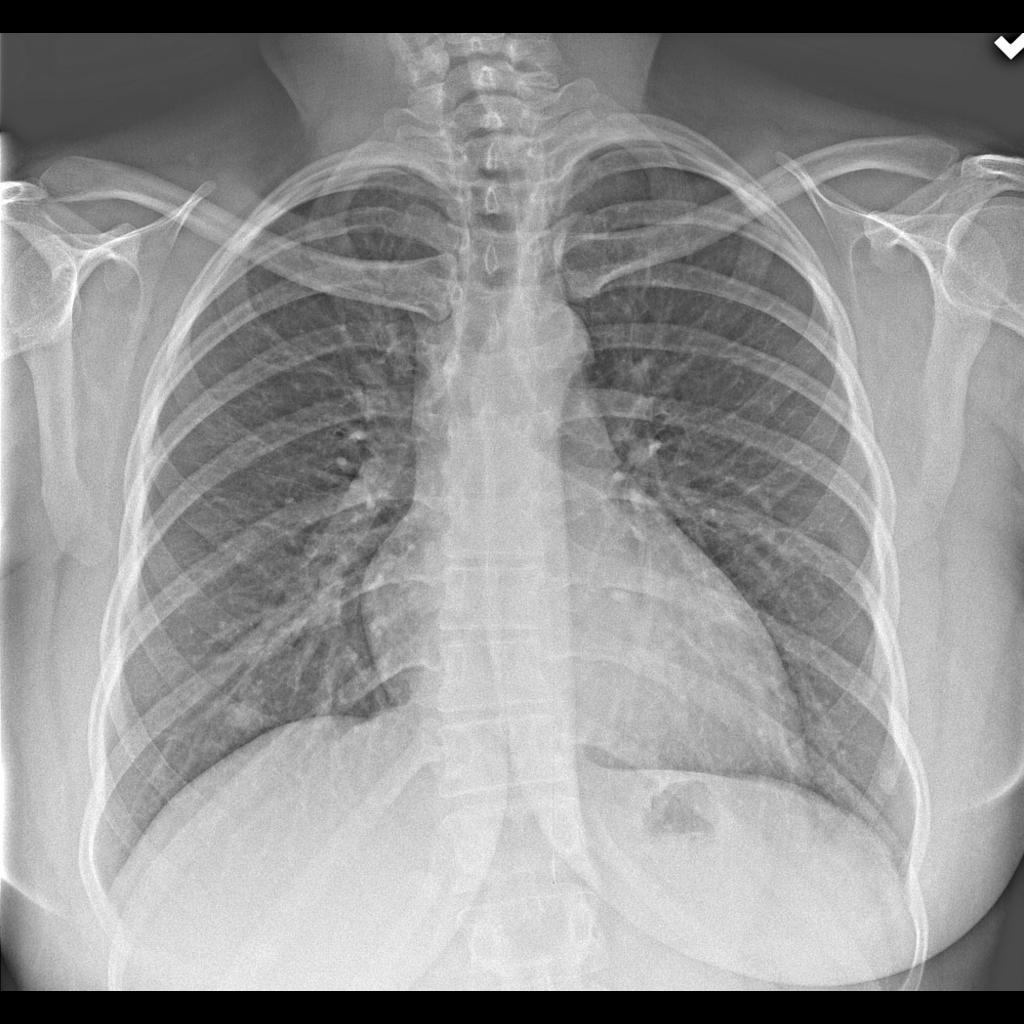Nodule: (211, 698, 268, 742), (869, 758, 912, 804)
